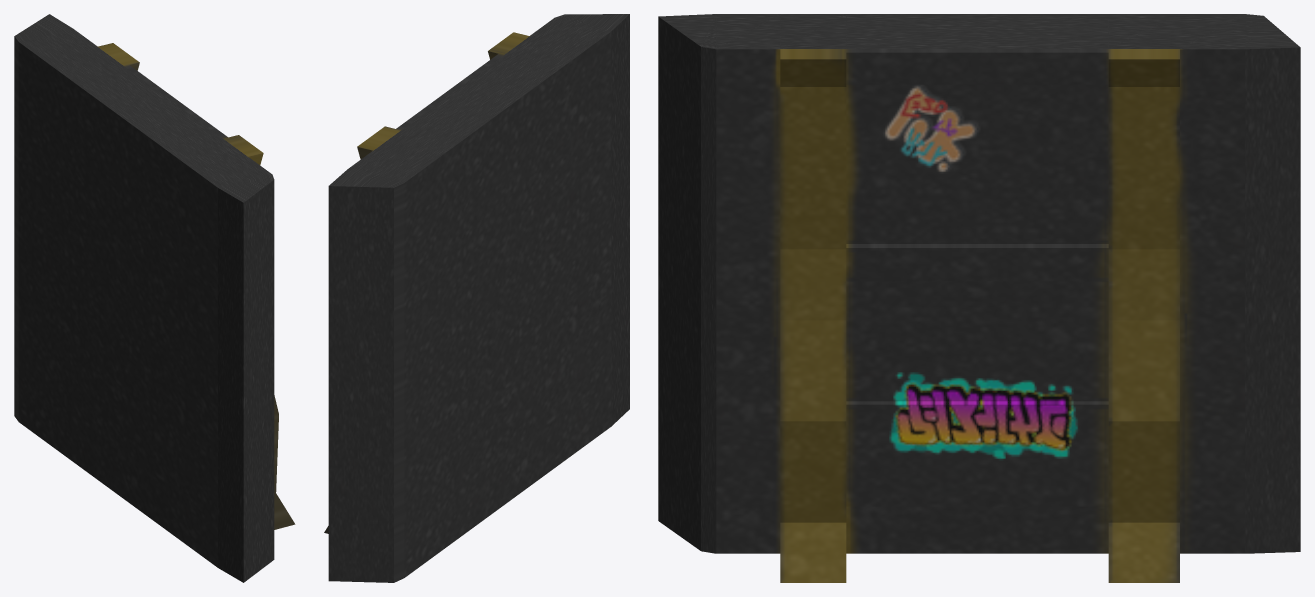
The model's file is wall.obj.
3 renders of one model, left to right at view 1: azimuth 30°, elevation 25°; view 2: azimuth 150°, elevation 25°; view 3: azimuth 270°, elevation 25°, orthographic. The views are drawn at different scales.
Parts seen in each view (by area): view 1: Cube; view 2: Cube; view 3: Cube.
Part boxes in pixels (x1=…): Cube: x1=14, y1=14, x2=295, y2=582; Cube: x1=324, y1=14, x2=629, y2=582; Cube: x1=658, y1=14, x2=1300, y2=582.
Bounding box in the file's own units: 4.87 × 17.41 × 20.09.
